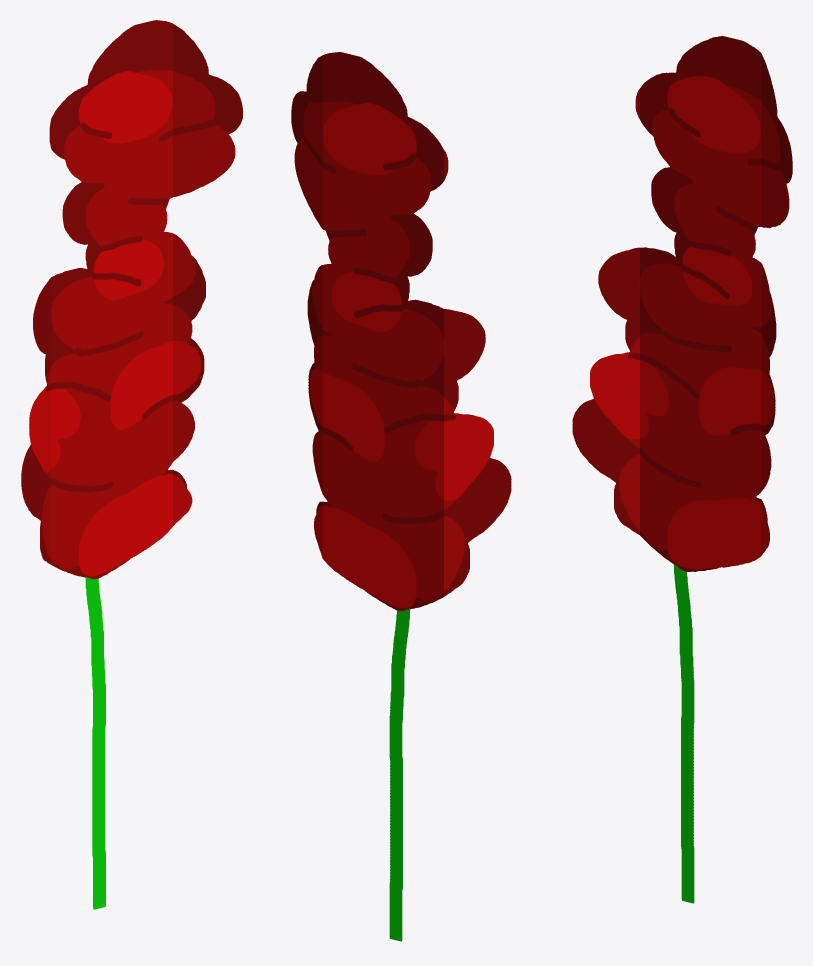
Rendered from Lupine.fbx.
The picture shows the model from 3 angles, left to right: view 1: azimuth 30°, elevation 25°; view 2: azimuth 150°, elevation 25°; view 3: azimuth 330°, elevation 25°; orthographic projection.
Parts seen in each view (by area): view 1: Plane; view 2: Plane; view 3: Plane.
Boxes of the visible parts, x1,y1,x2,y2 form: Plane: (21,20,243,909); Plane: (291,52,511,941); Plane: (572,36,792,903).
Size of the model in its own units: 58 by 200 by 9.62.
